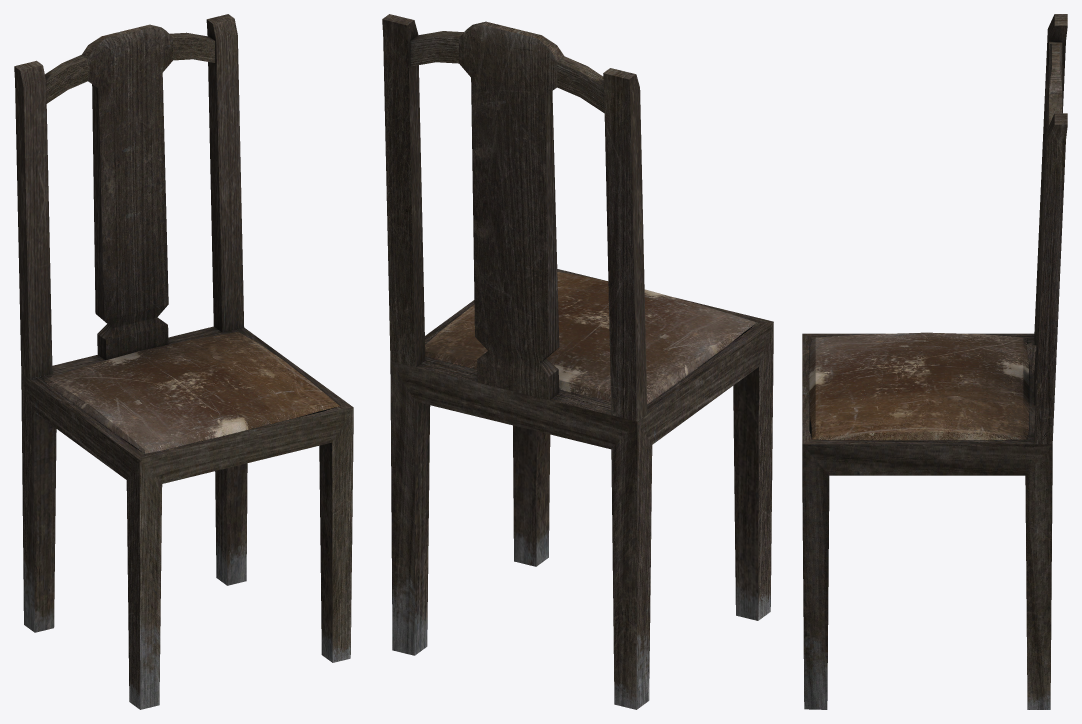
File: Prop_Chair.fbx
3 renders of one model, left to right at view 1: azimuth 30°, elevation 25°; view 2: azimuth 150°, elevation 25°; view 3: azimuth 270°, elevation 25°, orthographic. The views are drawn at different scales.
Visible parts, largest first — view 1: Cube_011; view 2: Cube_011; view 3: Cube_011.
Part boxes in pixels (bbox=[...]): Cube_011: bbox=[14, 14, 353, 709]; Cube_011: bbox=[382, 14, 773, 709]; Cube_011: bbox=[802, 14, 1067, 709].
Size of the model in its own units: 2.23 by 5.62 by 2.26.
